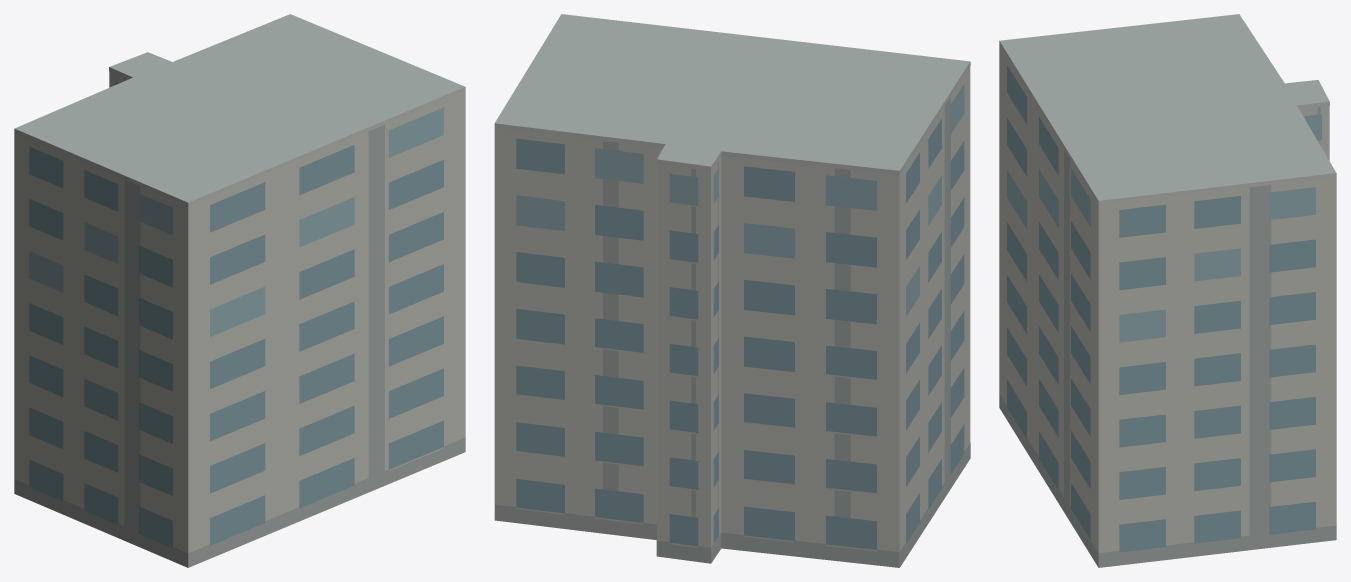
Rendered from survey-upis-32687840.glb.
3 views of the same model, side by side, from view 1: azimuth 30°, elevation 25°; view 2: azimuth 150°, elevation 25°; view 3: azimuth 270°, elevation 25° (orthographic). The views are drawn at different scales.
Parts seen in each view (by area): view 1: survey-upis-32687840.tmp; view 2: survey-upis-32687840.tmp; view 3: survey-upis-32687840.tmp.
Part boxes in pixels (<box>): survey-upis-32687840.tmp: <box>14,14,465,567</box>; survey-upis-32687840.tmp: <box>494,14,970,567</box>; survey-upis-32687840.tmp: <box>999,14,1336,567</box>.
Size of the model in its own units: 23.11 by 21.15 by 17.62.
